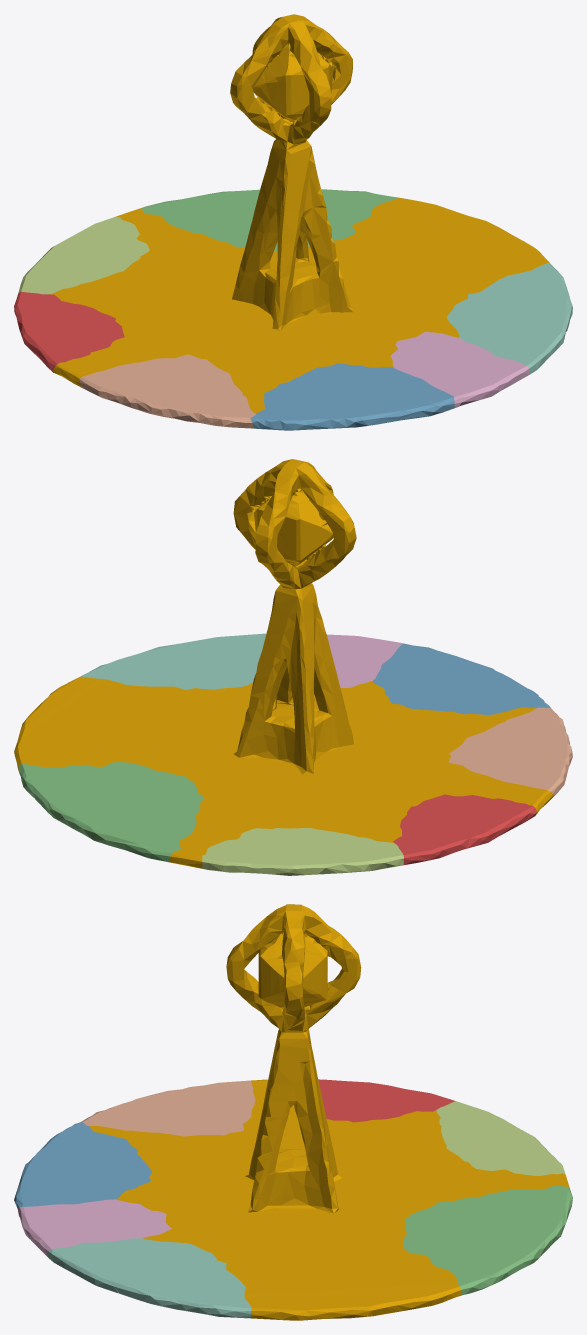
The model's file is mode_10_8pcs.glb.
3 renders of one model, top to bottom at view 1: azimuth 30°, elevation 25°; view 2: azimuth 150°, elevation 25°; view 3: azimuth 270°, elevation 25°, orthographic.
Parts seen in each view (by area): view 1: piece_0.obj, piece_2.obj, piece_4.obj, piece_7.obj, piece_3.obj, piece_6.obj, piece_5.obj, piece_1.obj; view 2: piece_0.obj, piece_3.obj, piece_2.obj, piece_5.obj, piece_7.obj, piece_4.obj, piece_1.obj, piece_6.obj; view 3: piece_0.obj, piece_3.obj, piece_4.obj, piece_2.obj, piece_7.obj, piece_6.obj, piece_5.obj, piece_1.obj.
Part boxes in pixels (x1,y1,x2,y2): piece_0.obj: [50, 14, 549, 413]; piece_2.obj: [250, 363, 454, 430]; piece_4.obj: [447, 263, 572, 374]; piece_7.obj: [80, 354, 255, 428]; piece_3.obj: [141, 189, 398, 251]; piece_6.obj: [390, 331, 528, 407]; piece_5.obj: [18, 216, 149, 294]; piece_1.obj: [14, 291, 124, 372]; piece_0.obj: [14, 459, 553, 868]; piece_3.obj: [18, 762, 204, 862]; piece_2.obj: [373, 644, 550, 715]; piece_5.obj: [202, 828, 403, 875]; piece_7.obj: [448, 707, 572, 796]; piece_4.obj: [81, 633, 266, 689]; piece_1.obj: [393, 794, 536, 865]; piece_6.obj: [326, 634, 404, 687]; piece_0.obj: [89, 904, 569, 1320]; piece_3.obj: [403, 1185, 572, 1295]; piece_4.obj: [48, 1238, 251, 1318]; piece_2.obj: [14, 1122, 151, 1209]; piece_7.obj: [79, 1080, 255, 1136]; piece_6.obj: [18, 1199, 171, 1256]; piece_5.obj: [436, 1101, 565, 1175]; piece_1.obj: [318, 1079, 455, 1122].
Size of the model in its own units: 0.9998 by 0.5841 by 1.
